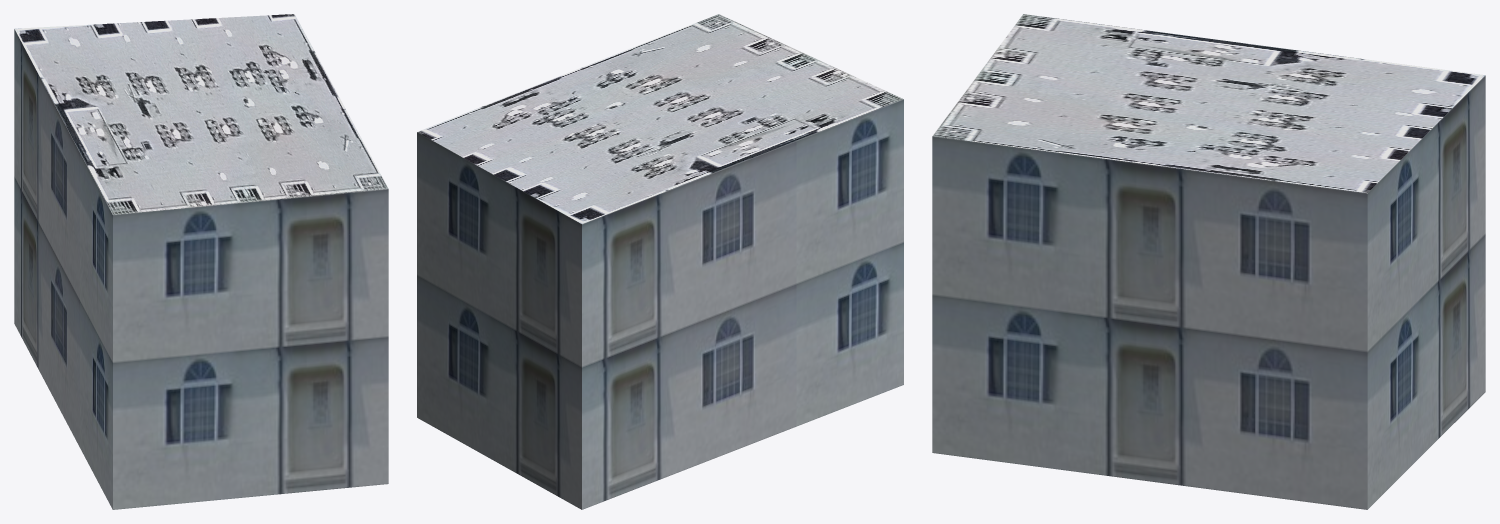
Rendered from ResTex__4597.fbx.
3 views of the same model, side by side, from view 1: azimuth 30°, elevation 25°; view 2: azimuth 150°, elevation 25°; view 3: azimuth 270°, elevation 25° (orthographic). The views are drawn at different scales.
Visible parts, largest first — view 1: CityEngineMaterial_17_m, CityEngineMaterial_8_m; view 2: CityEngineMaterial_17_m, CityEngineMaterial_8_m; view 3: CityEngineMaterial_17_m, CityEngineMaterial_8_m.
Part boxes in pixels (left/top/right/bottom): CityEngineMaterial_17_m: left=14, top=29, right=388, bottom=509; CityEngineMaterial_8_m: left=14, top=14, right=388, bottom=214; CityEngineMaterial_17_m: left=417, top=99, right=903, bottom=509; CityEngineMaterial_8_m: left=417, top=14, right=903, bottom=223; CityEngineMaterial_17_m: left=932, top=75, right=1485, bottom=509; CityEngineMaterial_8_m: left=932, top=14, right=1484, bottom=193.
Size of the model in its own units: 7.28 by 6 by 9.5.
Materials: 2 (2 with a texture image).
